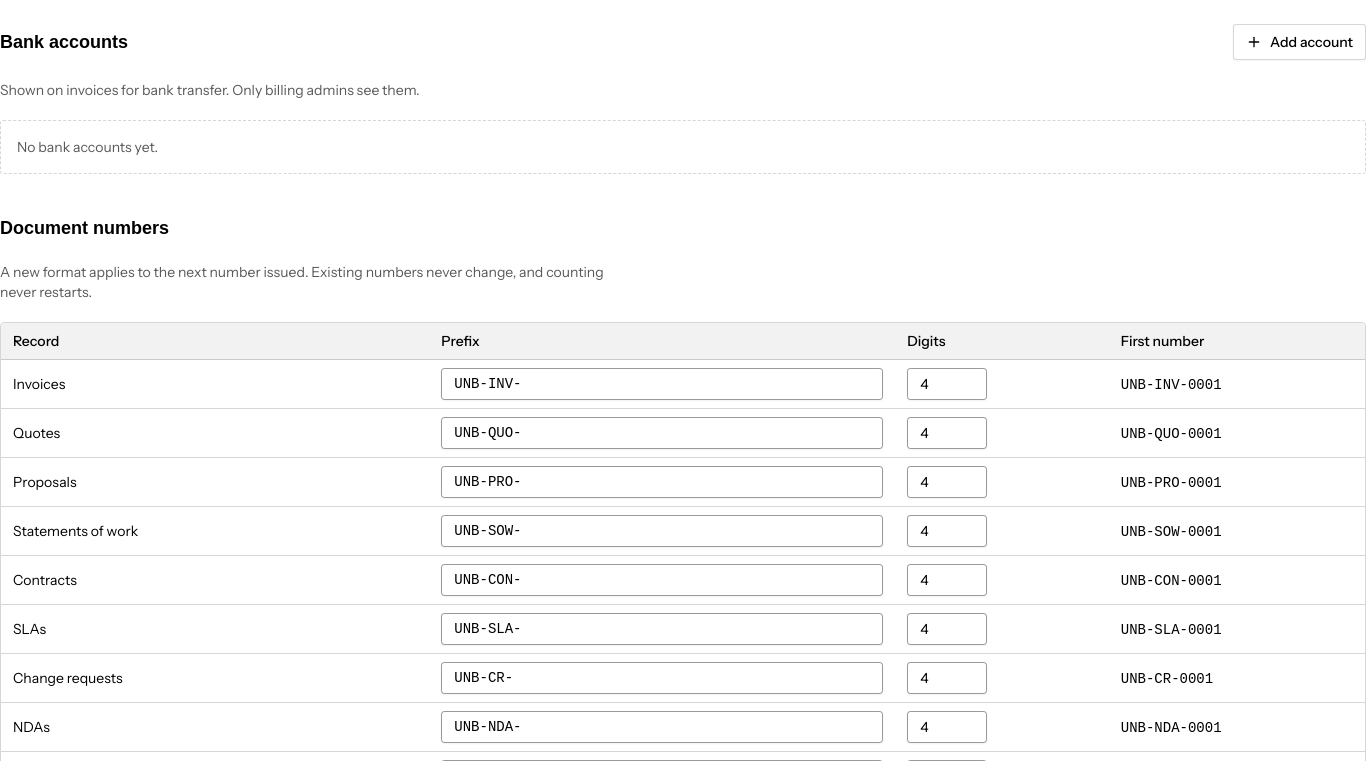
Test: BillingForm › previews number formats and only asks for late fee details when late fees are on
This screenshot has width=1366, height=761.
(page scrolled)
Replace the text in the field named "Invoices prefix" with "INV/" at (662, 384), box [441, 368, 883, 400]
(page scrolled)
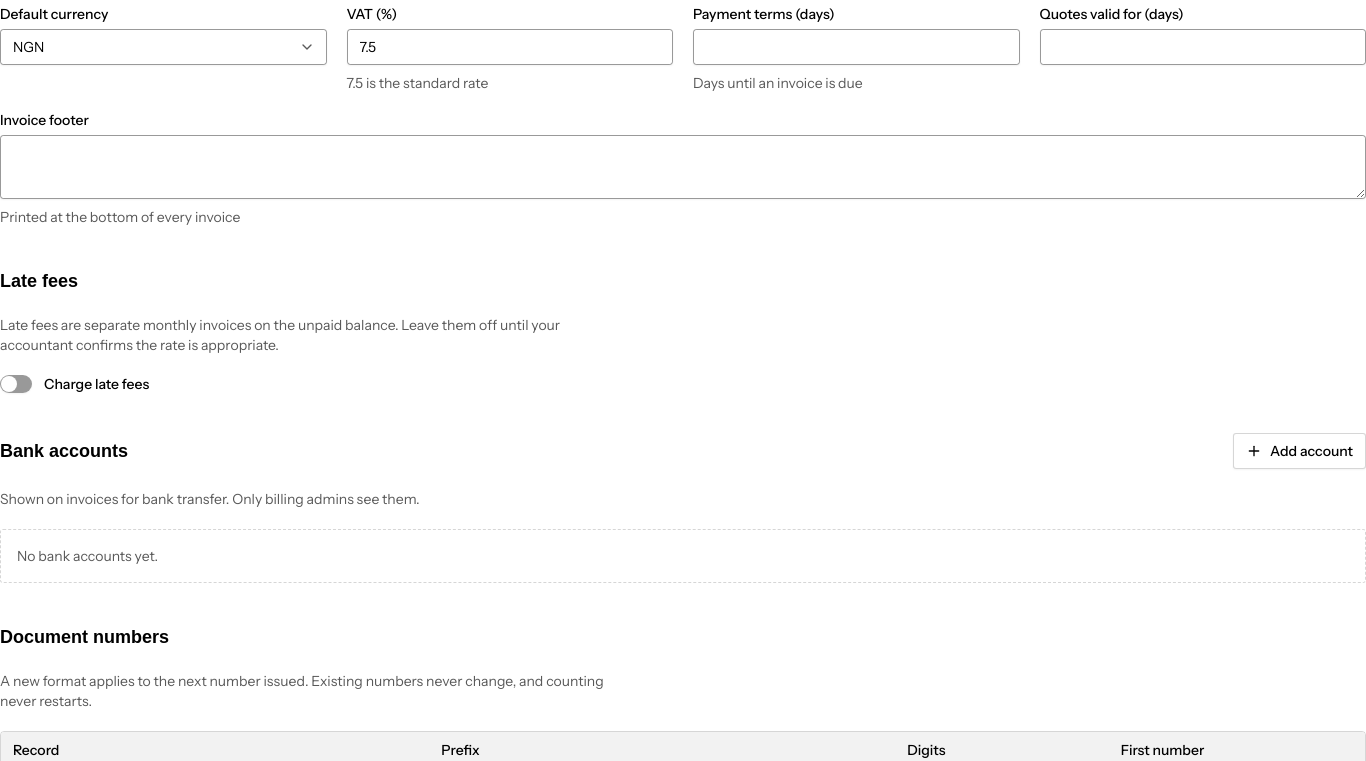
expect the field labelled "Monthly rate (%)" is not shown: met
Click the switch named "Charge late fees" at (16, 384), box [0, 375, 32, 393]
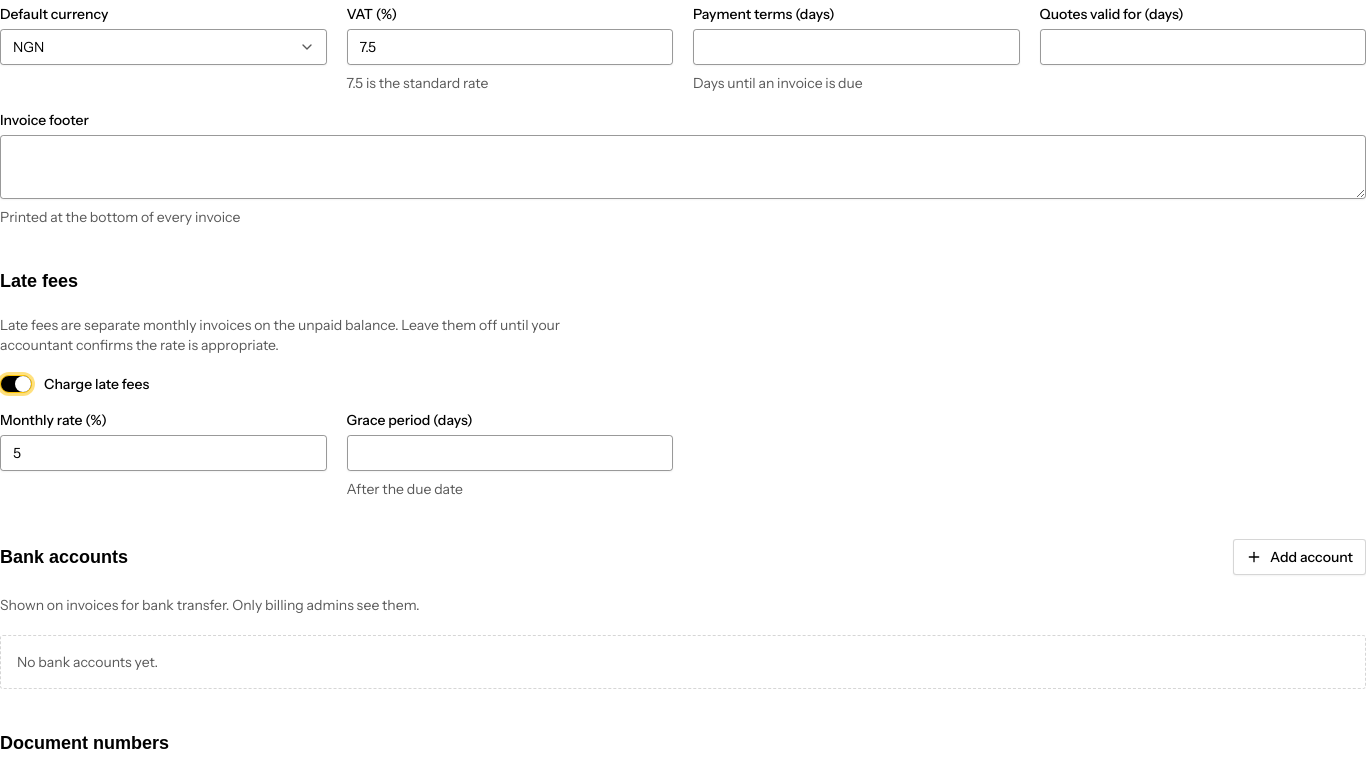
expect the field labelled "Monthly rate (%)" holds "5": met, box [0, 435, 326, 471]
